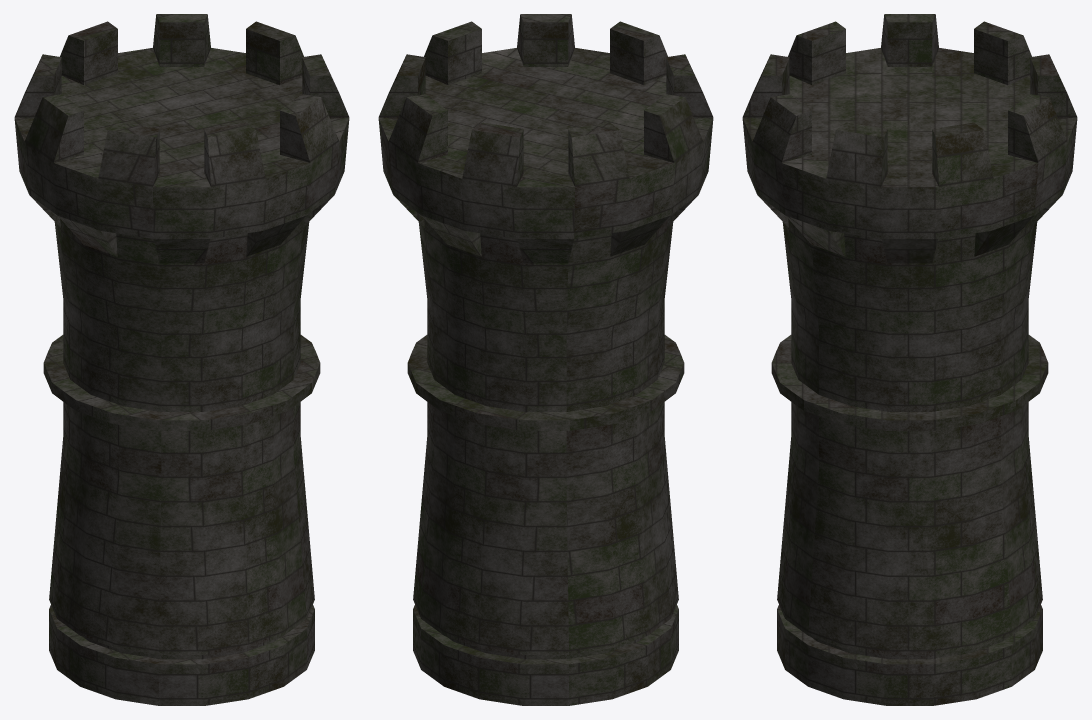
The model's file is CastleTower.fbx.
3 views of the same model, side by side, from view 1: azimuth 30°, elevation 25°; view 2: azimuth 150°, elevation 25°; view 3: azimuth 270°, elevation 25° (orthographic).
Visible parts, largest first — view 1: CastleTower; view 2: CastleTower; view 3: CastleTower.
Boxes of the visible parts, x1,y1,x2,y2 form: CastleTower: [14, 14, 349, 705]; CastleTower: [378, 14, 713, 705]; CastleTower: [742, 14, 1077, 705].
Size of the model in its own units: 874 by 1682 by 888.
